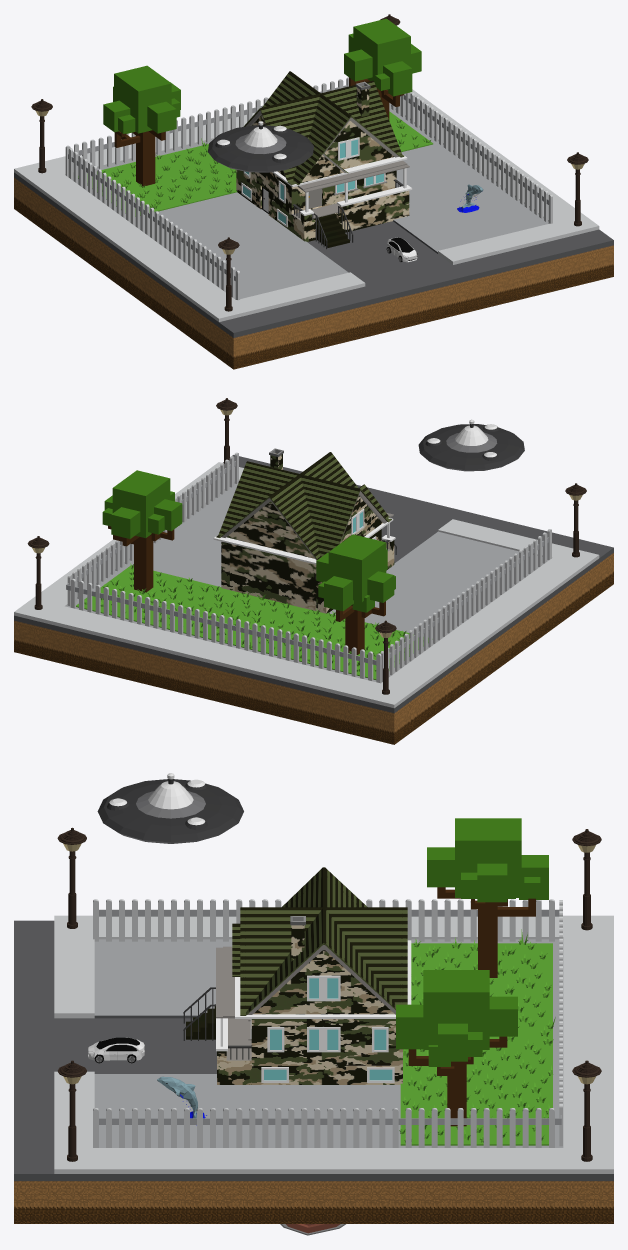
The picture shows the model from 3 angles, top to bottom: view 1: azimuth 30°, elevation 25°; view 2: azimuth 150°, elevation 25°; view 3: azimuth 270°, elevation 25°; orthographic projection. The views are drawn at different scales.
Visible parts, largest first — view 1: Cube.004, Cube.001, OBJRANDOM_UFO, VEHICLES_TESLA; view 2: Cube.004, Cube.001, OBJRANDOM_UFO; view 3: Cube.004, Cube.001, OBJRANDOM_UFO, VEHICLES_TESLA, ANIMAL_DELFIN.
Boxes of the visible parts, x1,y1,x2,y2 form: Cube.004: (14, 14, 613, 369); Cube.001: (236, 71, 412, 249); OBJRANDOM_UFO: (208, 121, 313, 172); VEHICLES_TESLA: (386, 237, 417, 262); Cube.004: (14, 398, 613, 744); Cube.001: (213, 448, 396, 613); OBJRANDOM_UFO: (418, 419, 524, 471); Cube.004: (14, 818, 613, 1223); Cube.001: (183, 867, 411, 1084); OBJRANDOM_UFO: (97, 773, 243, 843); VEHICLES_TESLA: (88, 1037, 144, 1063); ANIMAL_DELFIN: (157, 1076, 206, 1125).
Bounding box in the file's own units: 4000 × 2658 × 4000.
36 materials, 5 textured.
